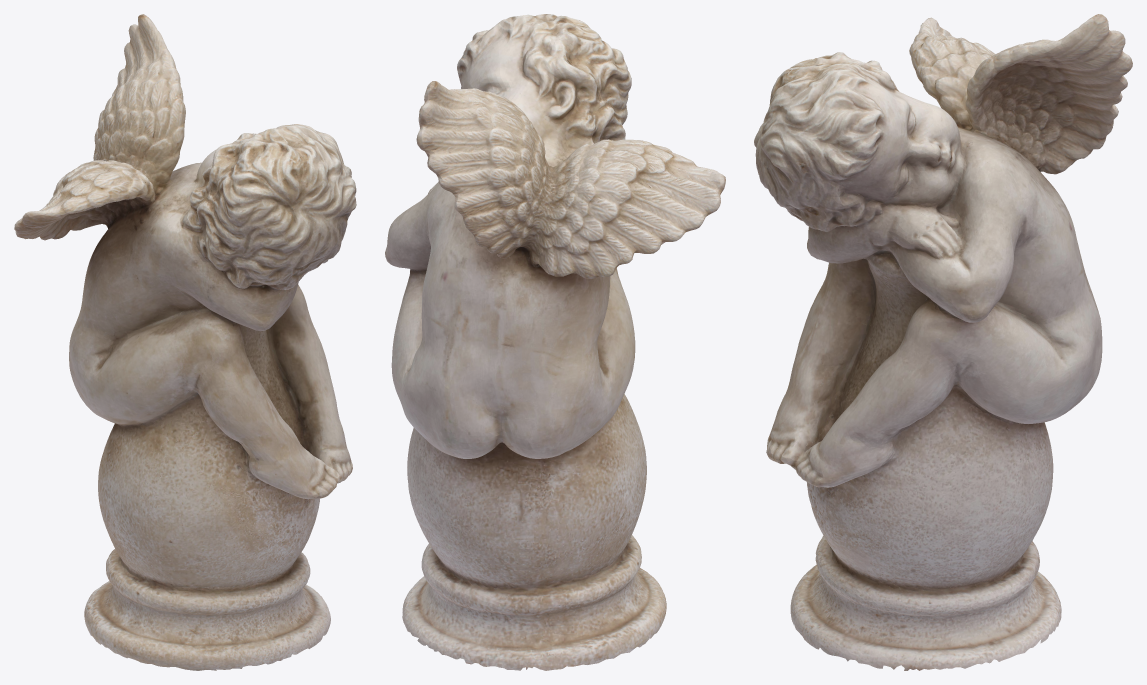
File: statue.glb
3 renders of one model, left to right at view 1: azimuth 30°, elevation 25°; view 2: azimuth 150°, elevation 25°; view 3: azimuth 270°, elevation 25°, orthographic. The views are drawn at different scales.
Bounding box in the file's own units: 14.9 × 26.3 × 14.86.
1 material, 1 textured.
